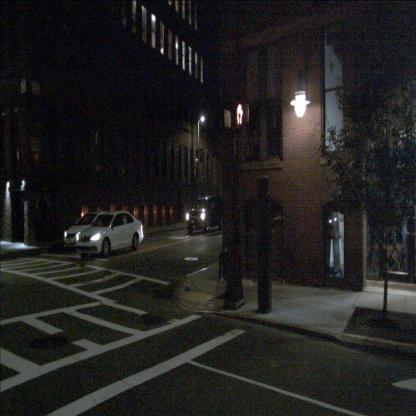vehicle-car: (76, 210, 144, 258), (63, 211, 119, 252), (186, 195, 226, 233)
